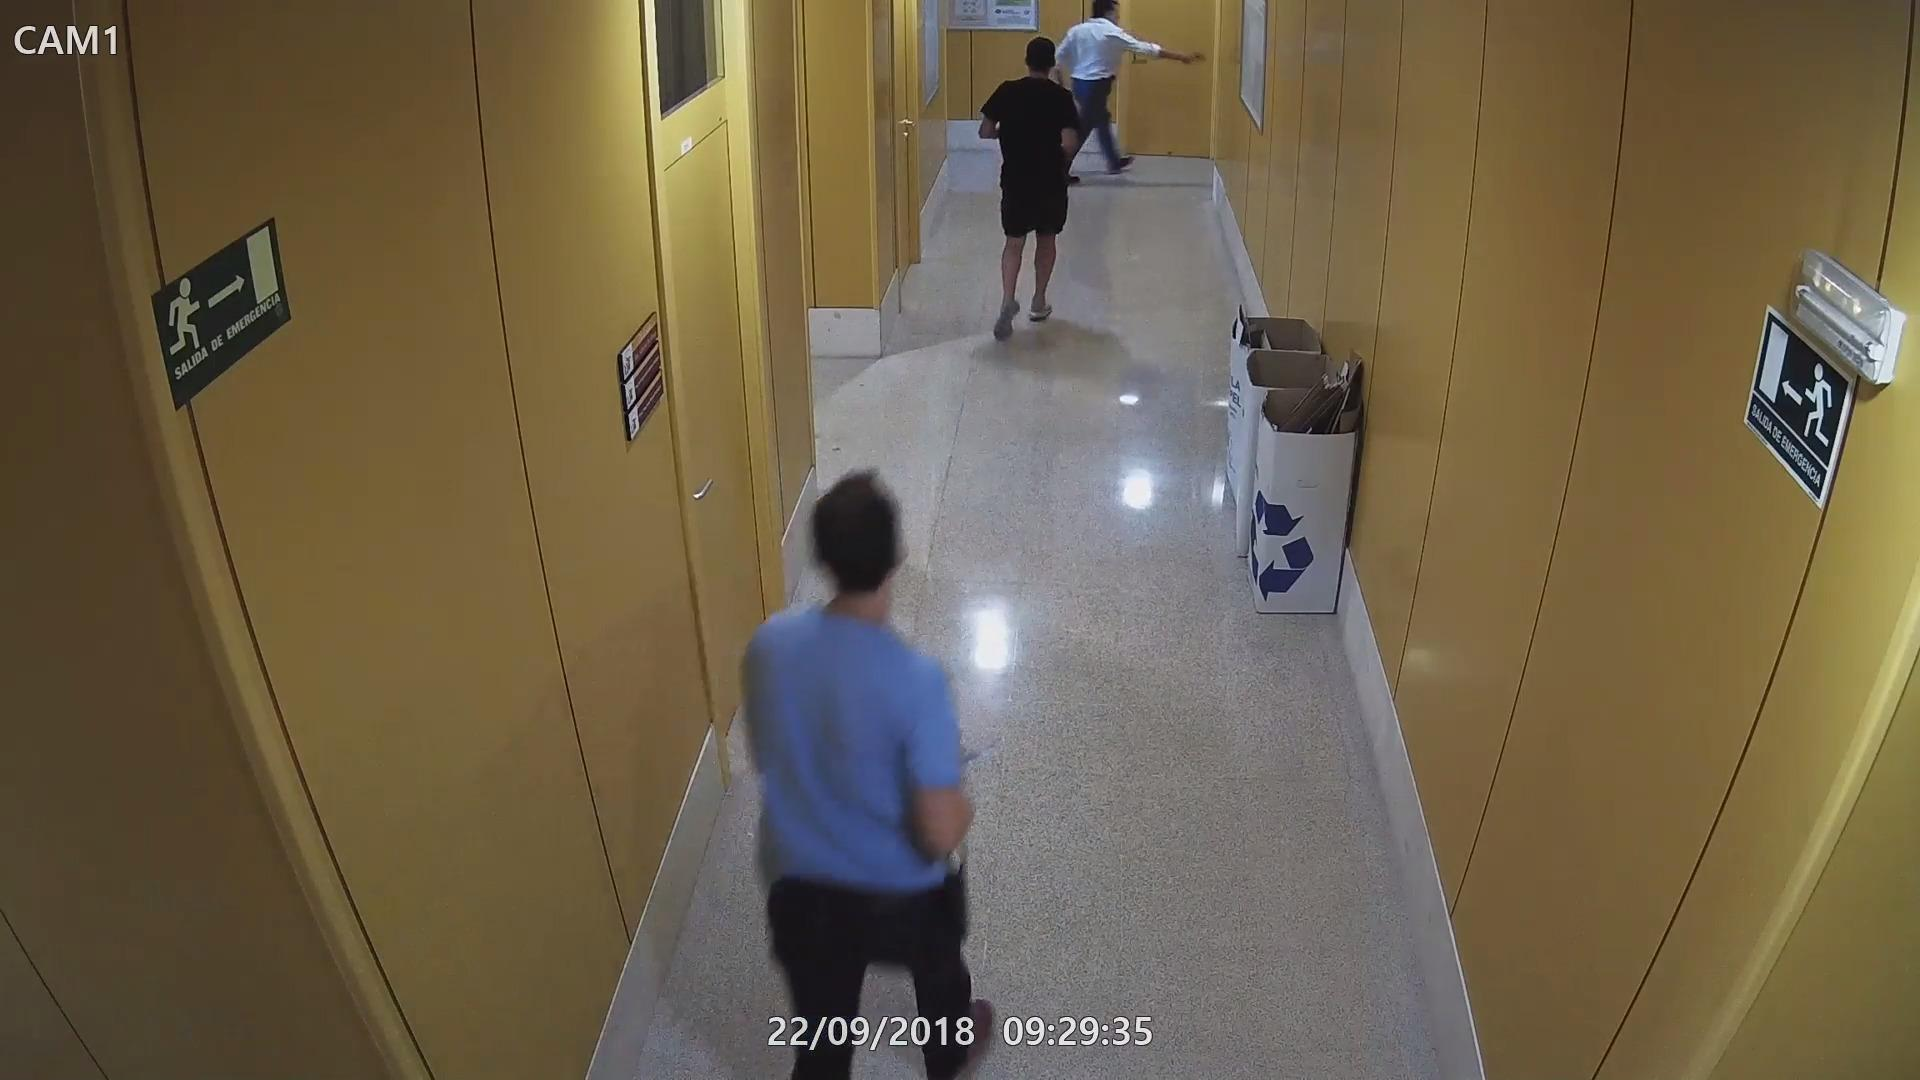Handgun: (1180, 44, 1212, 70)
